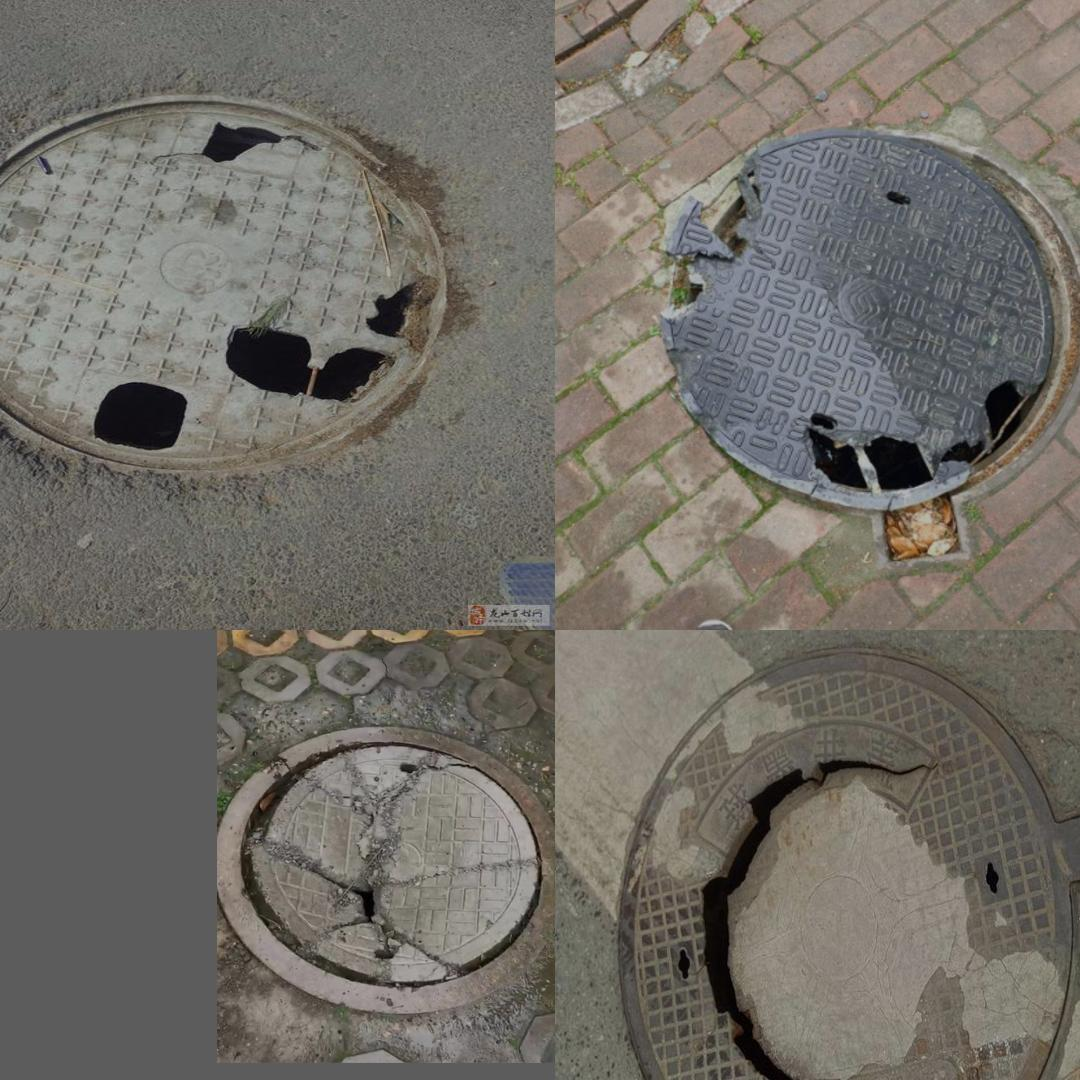broke: (606, 639, 1080, 1080), (0, 82, 486, 487), (658, 128, 1080, 563), (239, 741, 546, 990)
